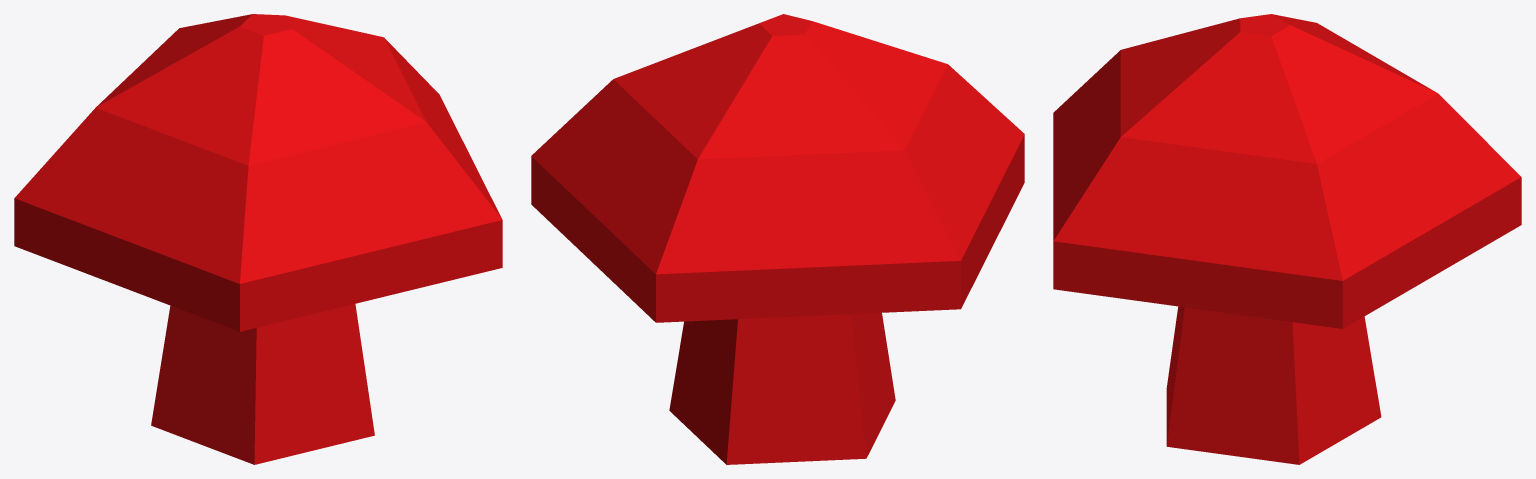
File: Mushroom_1_Snow.glb
3 renders of one model, left to right at view 1: azimuth 30°, elevation 25°; view 2: azimuth 150°, elevation 25°; view 3: azimuth 270°, elevation 25°, orthographic.
Parts seen in each view (by area): view 1: Mushroom_1_Snow.001; view 2: Mushroom_1_Snow.001; view 3: Mushroom_1_Snow.001.
Boxes of the visible parts, x1,y1,x2,y2 form: Mushroom_1_Snow.001: (14, 14, 502, 464); Mushroom_1_Snow.001: (531, 14, 1024, 464); Mushroom_1_Snow.001: (1053, 14, 1521, 464).
Size of the model in its own units: 0.3911 by 0.3438 by 0.372.
